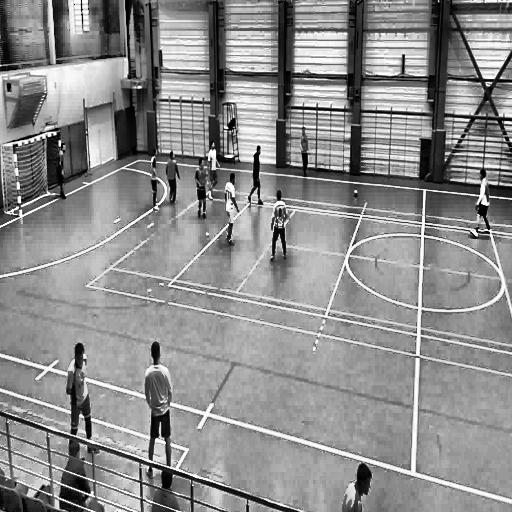ball: (351, 188, 359, 198)
player: (144, 339, 175, 483), (66, 336, 99, 457), (468, 168, 492, 241), (269, 189, 288, 264), (223, 172, 240, 250), (246, 146, 264, 208), (205, 138, 222, 202), (164, 150, 181, 207), (195, 156, 208, 222), (56, 139, 68, 204), (149, 147, 160, 214), (299, 124, 310, 182)
